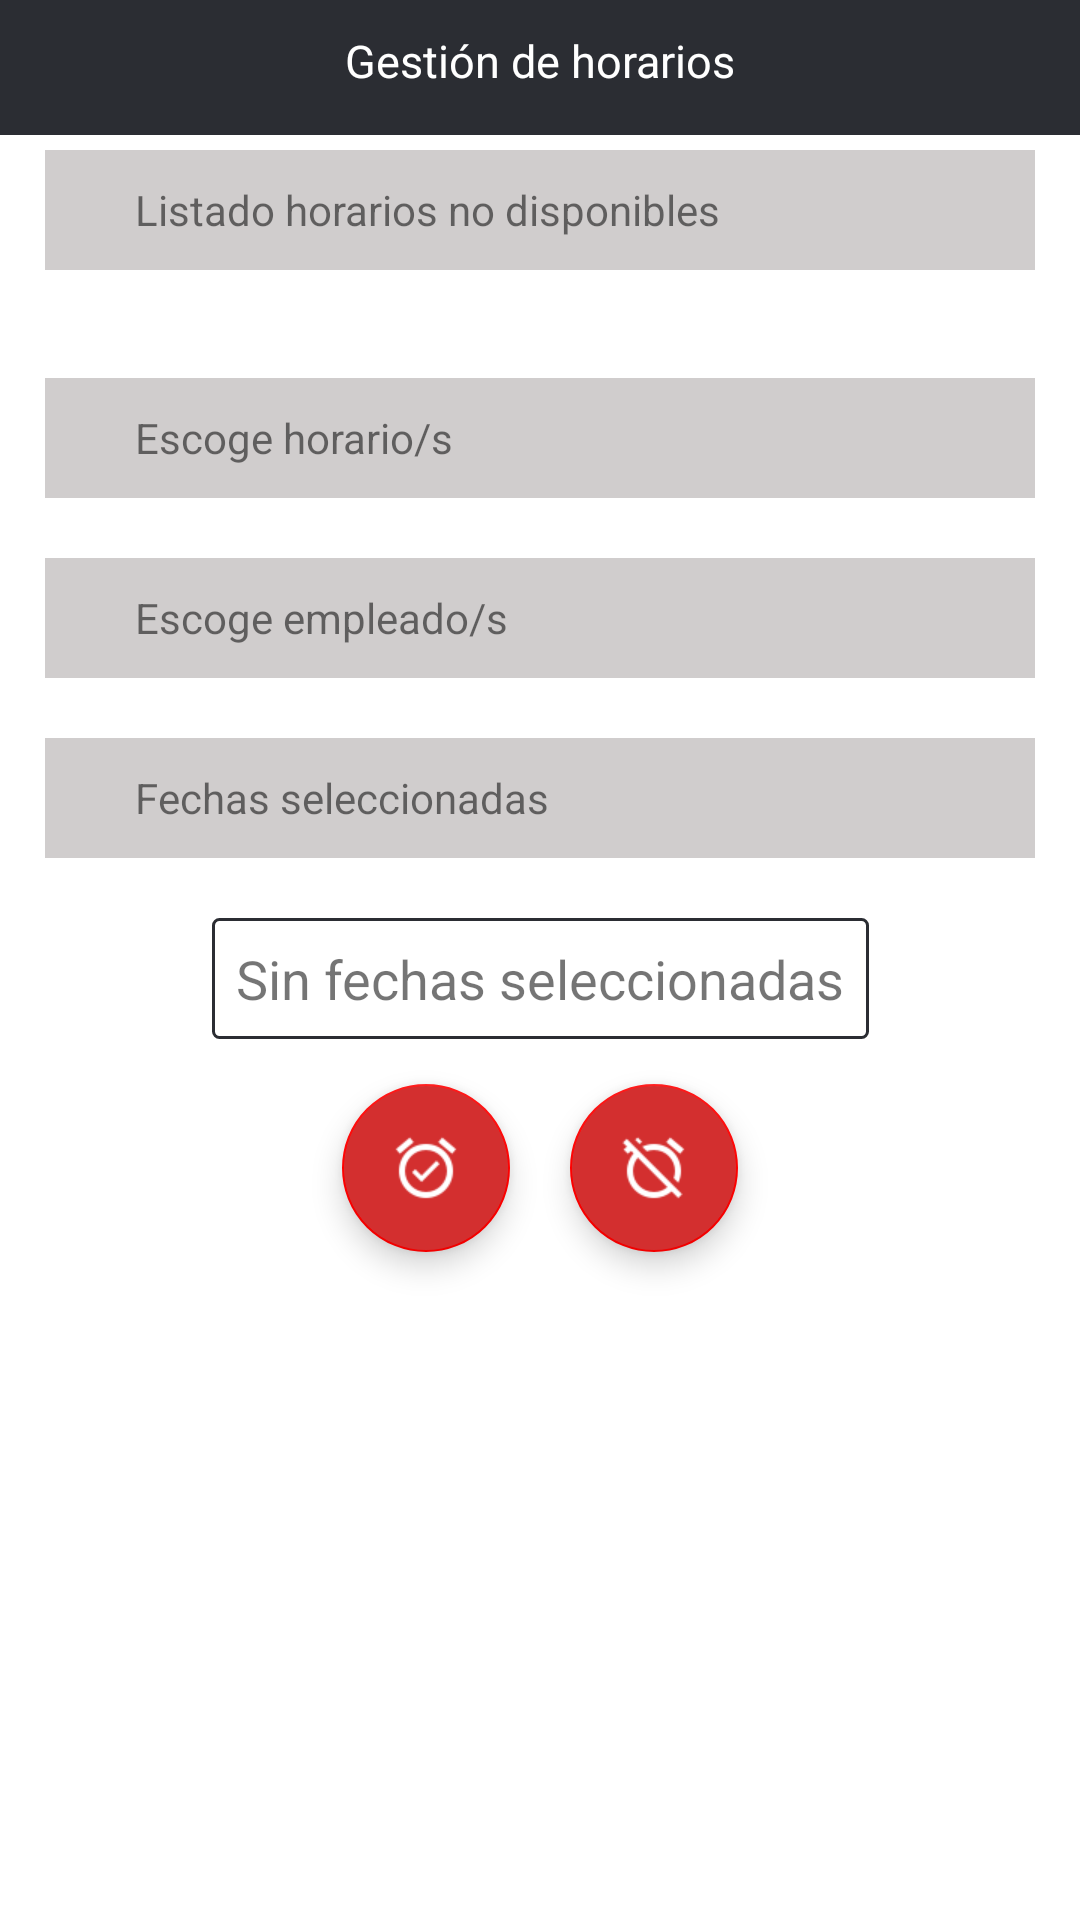

Icons on this 1080×1920 Android screen, each with the point to tap as point (x, y):
alarm check: point (426, 1168)
alarm off: point (654, 1168)
